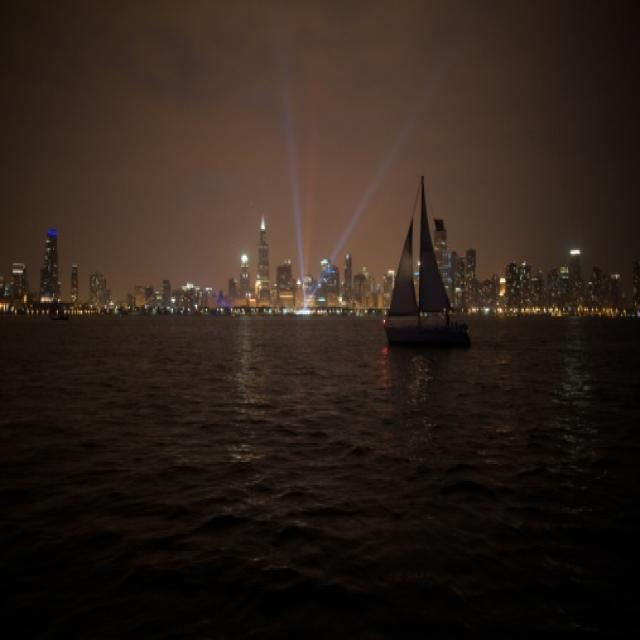Boat: (354, 168, 481, 381)
